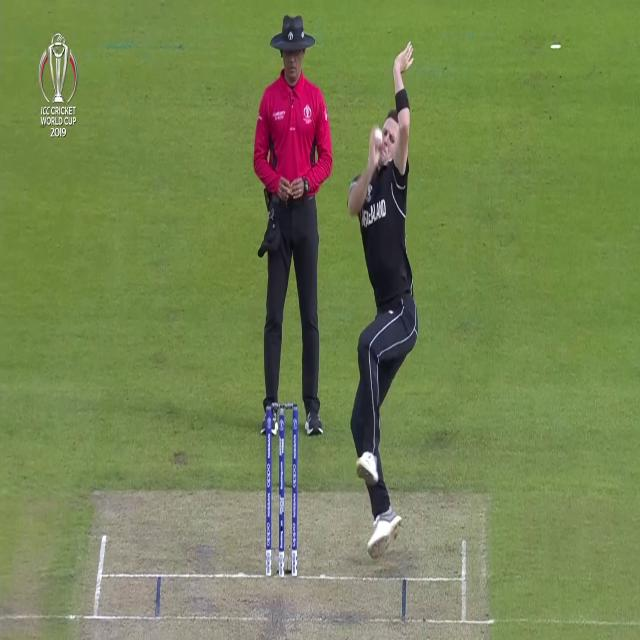ball: (372, 128, 382, 149)
